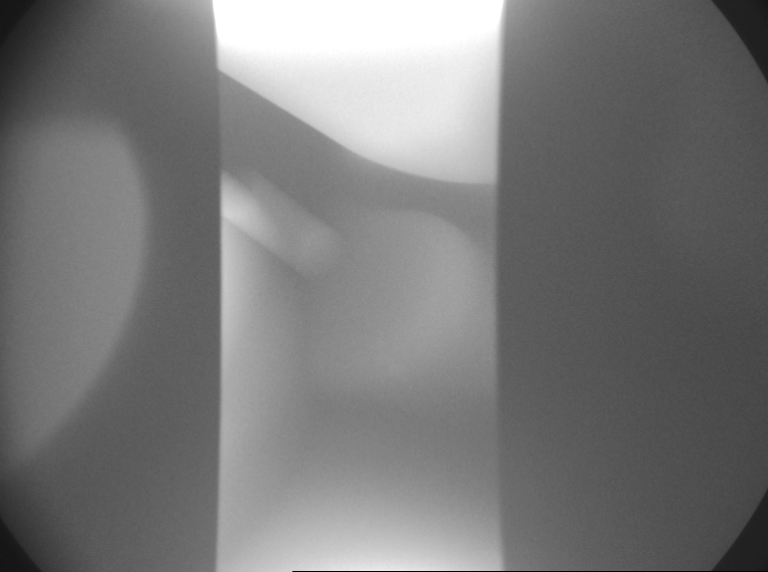defect: (377, 342, 414, 384)
